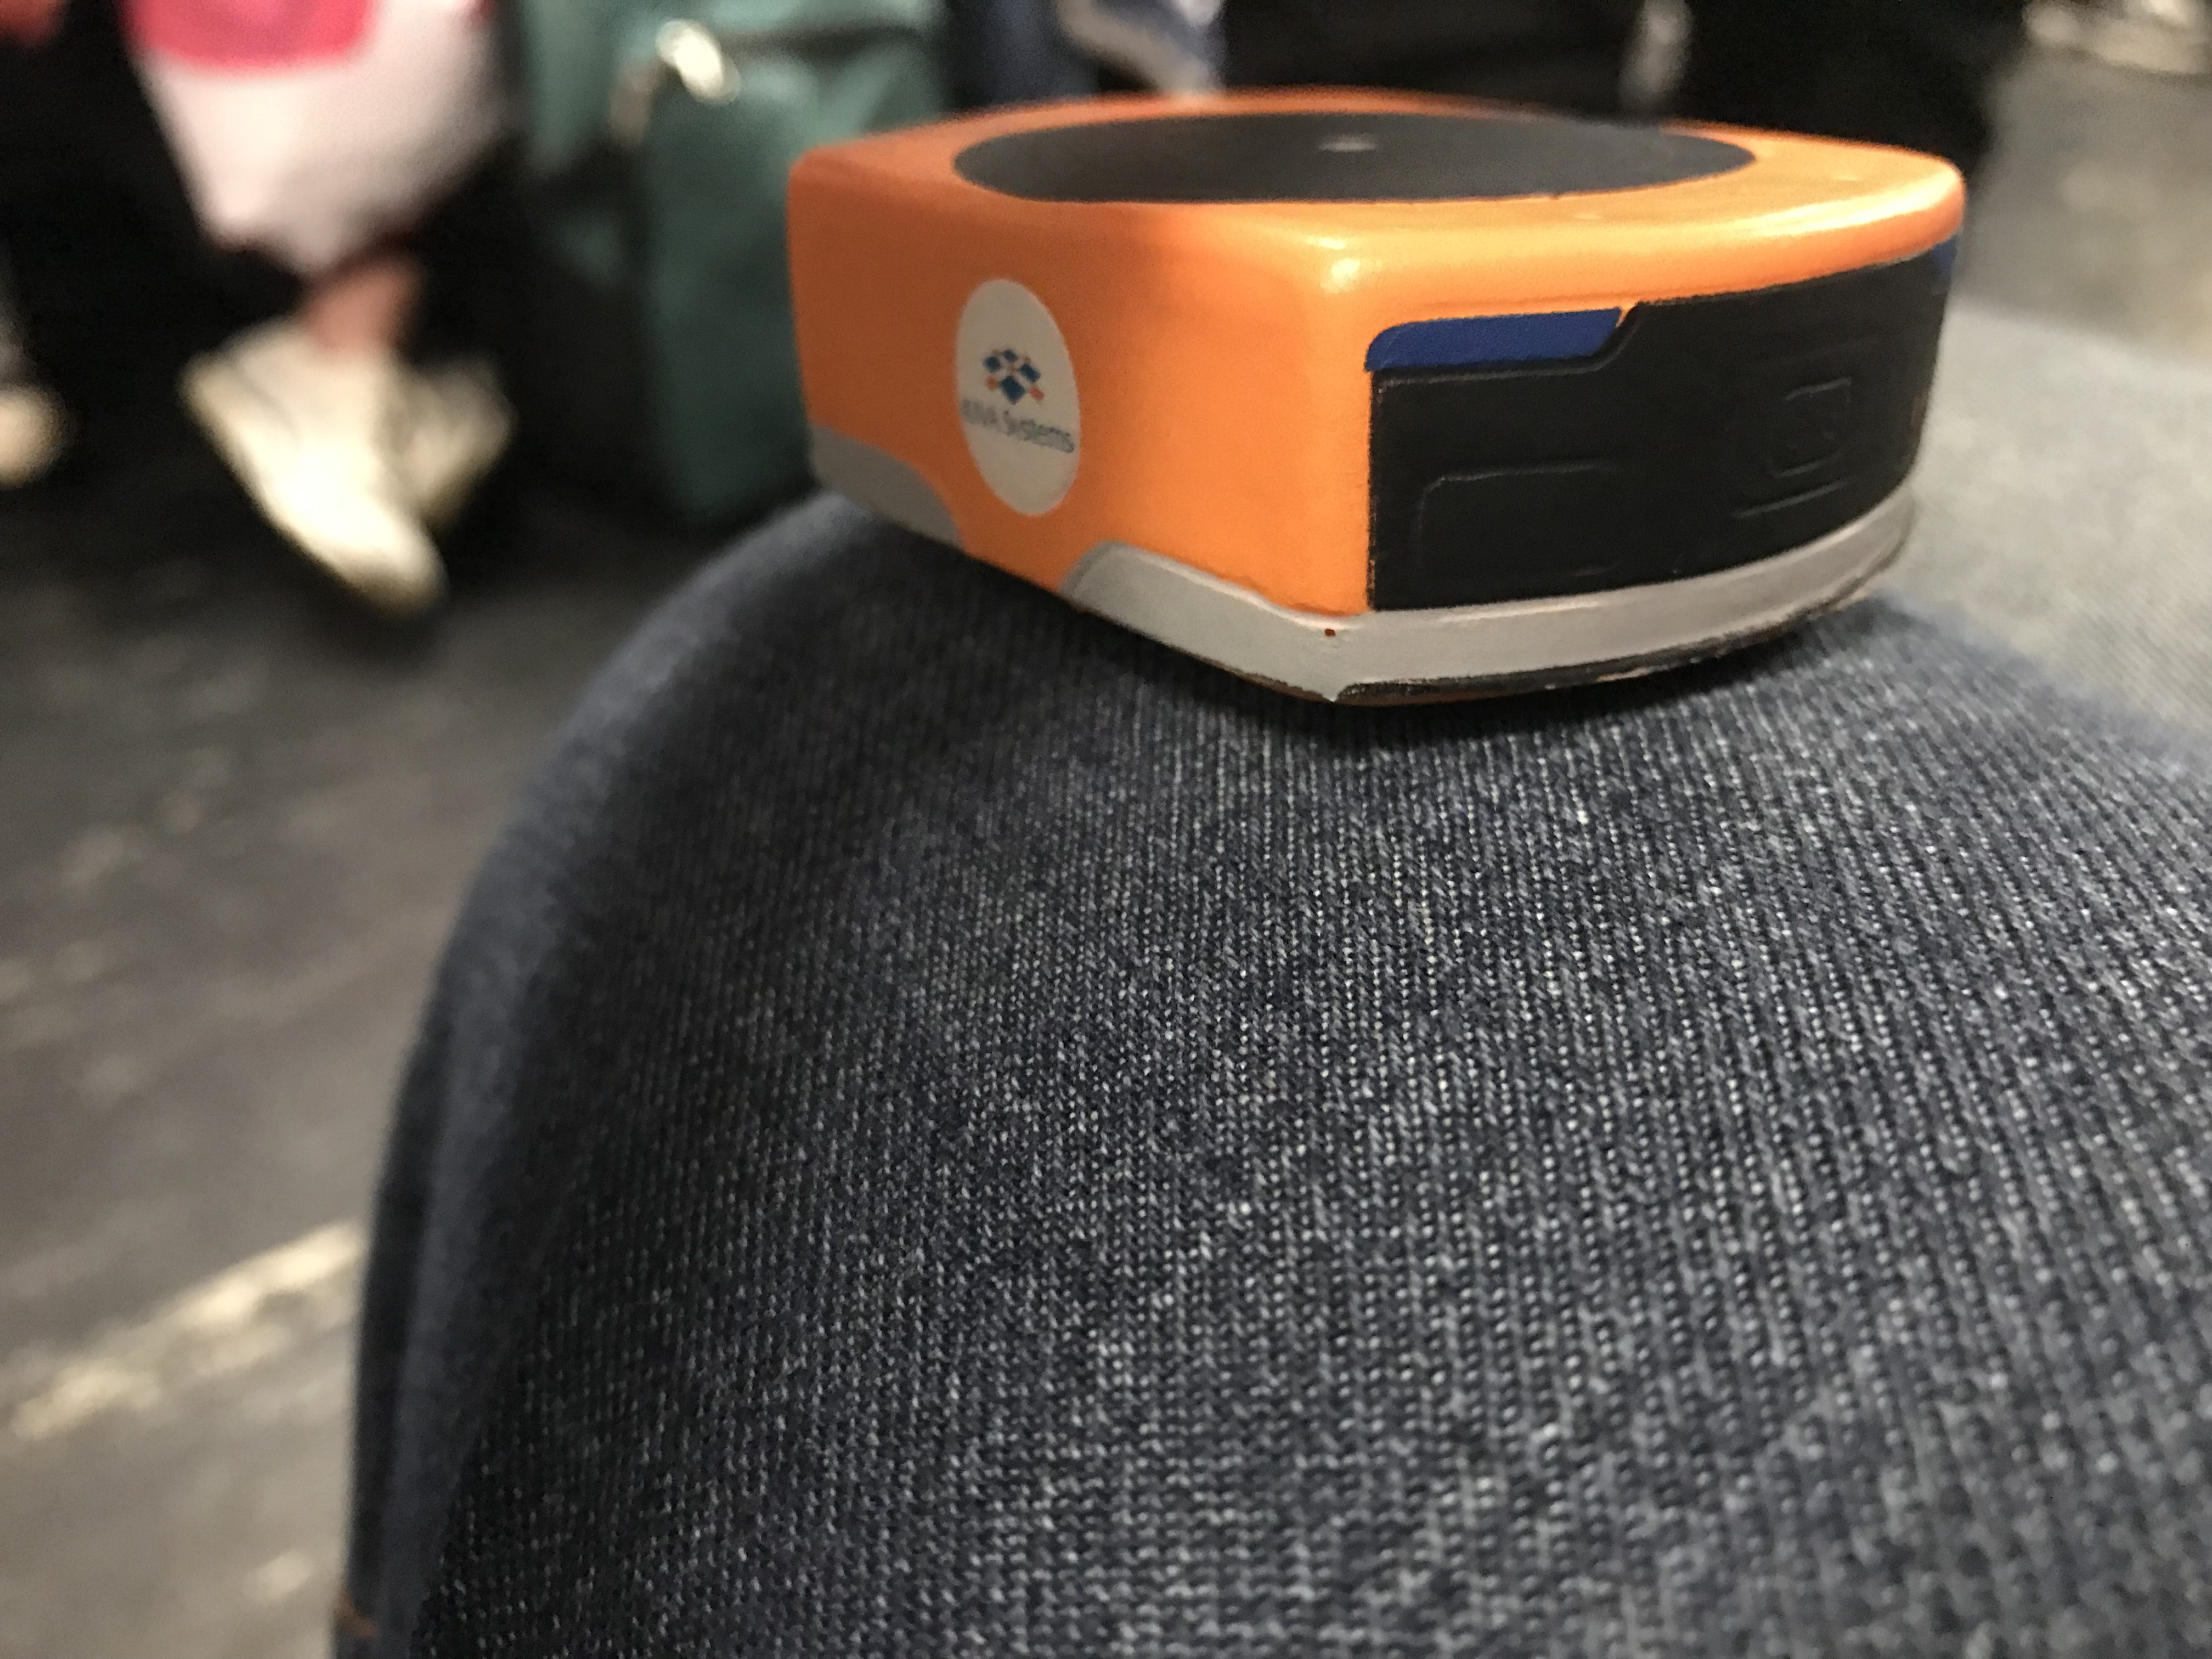amazon_bot: (758, 49, 1975, 734)
